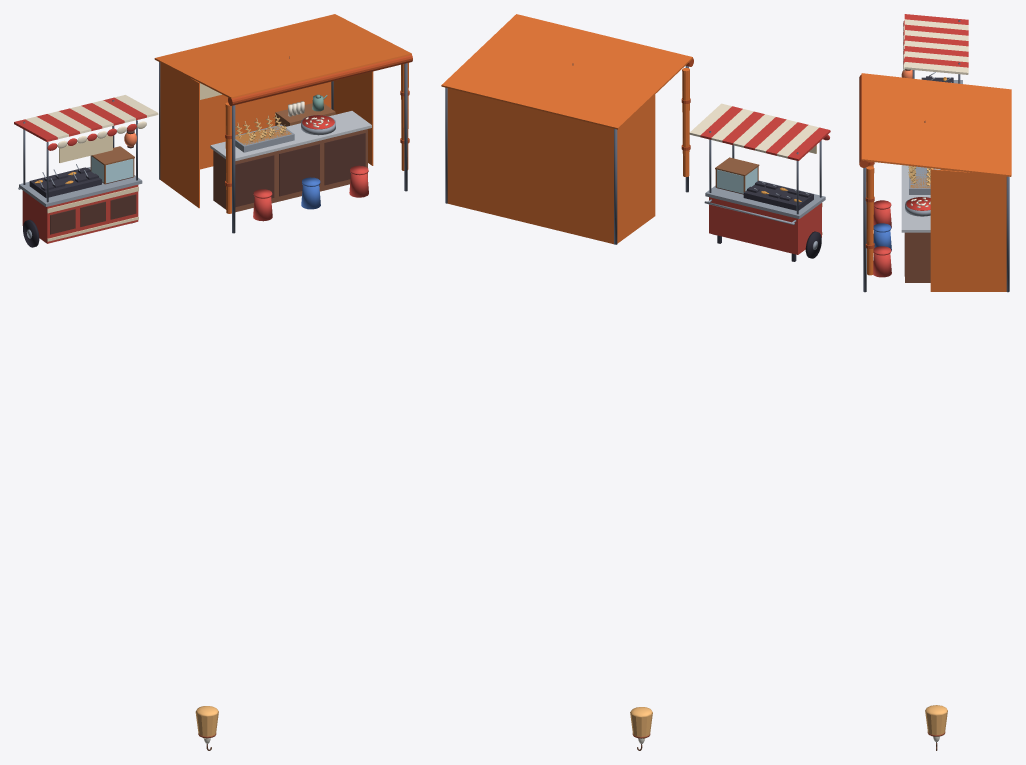
The model's file is stalls.glb.
3 views of the same model, side by side, from view 1: azimuth 30°, elevation 25°; view 2: azimuth 150°, elevation 25°; view 3: azimuth 270°, elevation 25° (orthographic). The views are drawn at different scales.
Visible parts, largest first — view 1: PochaTarp, Pocha, BungeoCart, BungeoCanopy, BungeoCartGlass; view 2: PochaTarp, BungeoCart, BungeoCanopy, Pocha, BungeoCartGlass; view 3: PochaTarp, Pocha, BungeoCanopy, PropSkyLantern.
Boxes of the visible parts, x1,y1,x2,y2 form: PochaTarp: (154,14,412,213); Pocha: (159,56,407,233); BungeoCart: (18,146,142,247); BungeoCanopy: (14,95,158,202); BungeoCartGlass: (91,156,133,183); PochaTarp: (441,14,693,244); BungeoCart: (704,157,825,261); BungeoCanopy: (689,103,830,214); Pocha: (445,63,688,244); BungeoCartGlass: (717,167,757,193); PochaTarp: (859,73,1011,291); Pocha: (863,121,1009,292); BungeoCanopy: (901,14,968,83); PropSkyLantern: (925,705,947,736).
Size of the model in its own units: 6.83 by 12.92 by 2.66.
